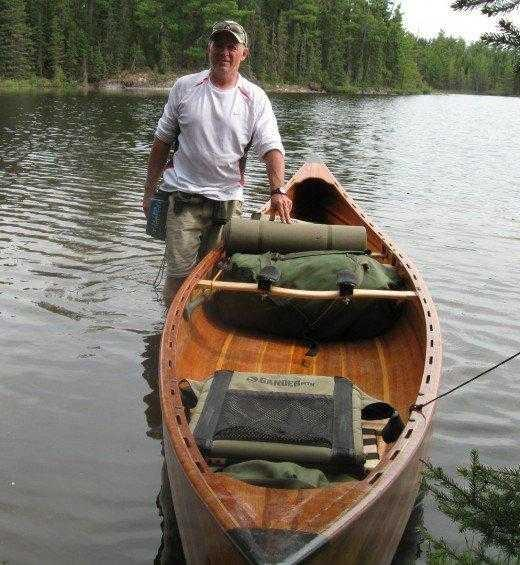kayak: (156, 159, 447, 561)
